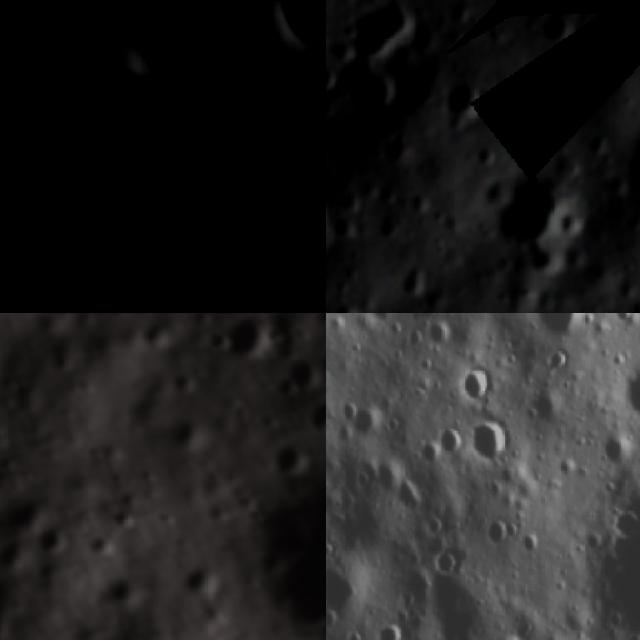crater: (231, 475, 326, 640), (564, 484, 640, 640), (48, 230, 163, 313), (492, 168, 572, 248), (339, 0, 424, 65), (253, 0, 326, 73), (102, 22, 168, 94), (54, 43, 118, 108), (326, 546, 371, 628), (243, 270, 323, 313), (461, 411, 521, 465), (72, 99, 128, 154), (347, 72, 408, 122), (236, 114, 291, 169), (519, 313, 596, 352), (221, 313, 275, 363), (436, 74, 487, 126), (338, 395, 385, 446), (455, 356, 498, 411), (0, 492, 51, 538), (273, 432, 315, 482), (616, 117, 640, 202), (176, 556, 218, 604), (165, 410, 209, 455), (0, 200, 26, 273), (592, 423, 632, 469), (285, 353, 326, 396), (102, 572, 141, 616), (434, 416, 468, 463), (138, 318, 176, 356), (621, 363, 640, 429), (546, 5, 578, 44), (164, 367, 202, 398), (395, 313, 458, 331), (208, 323, 238, 357), (0, 443, 30, 477), (110, 508, 146, 536), (304, 394, 326, 437), (272, 375, 302, 404), (579, 0, 617, 19), (374, 619, 408, 640)
